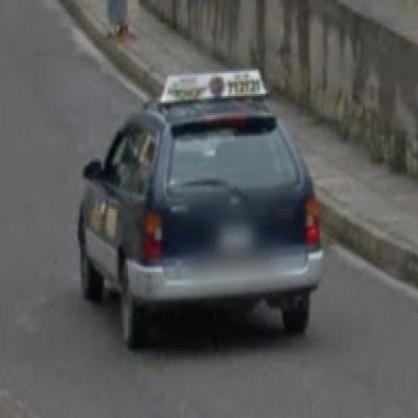car: (73, 70, 324, 351)
